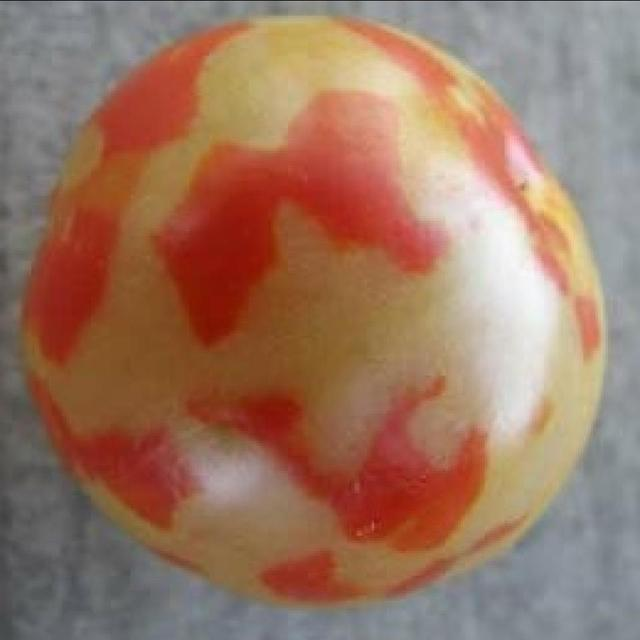Spotted wilt Virus Fruit: (198, 61, 491, 89)
